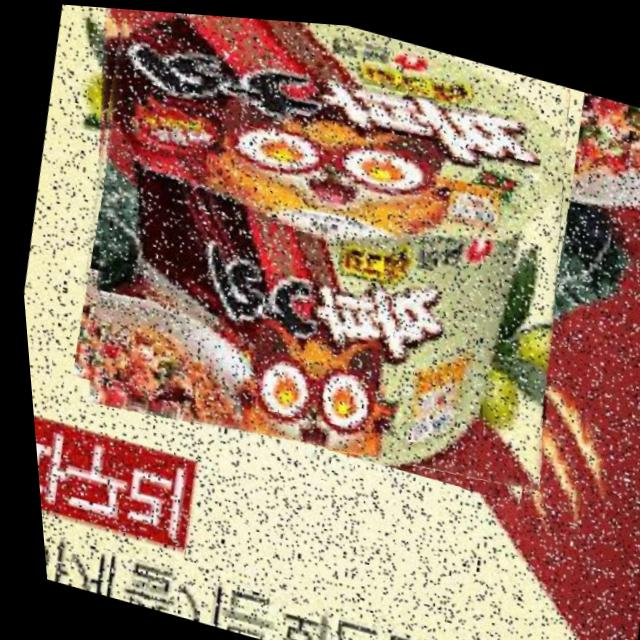Miscellaneous: (29, 1, 610, 514)
